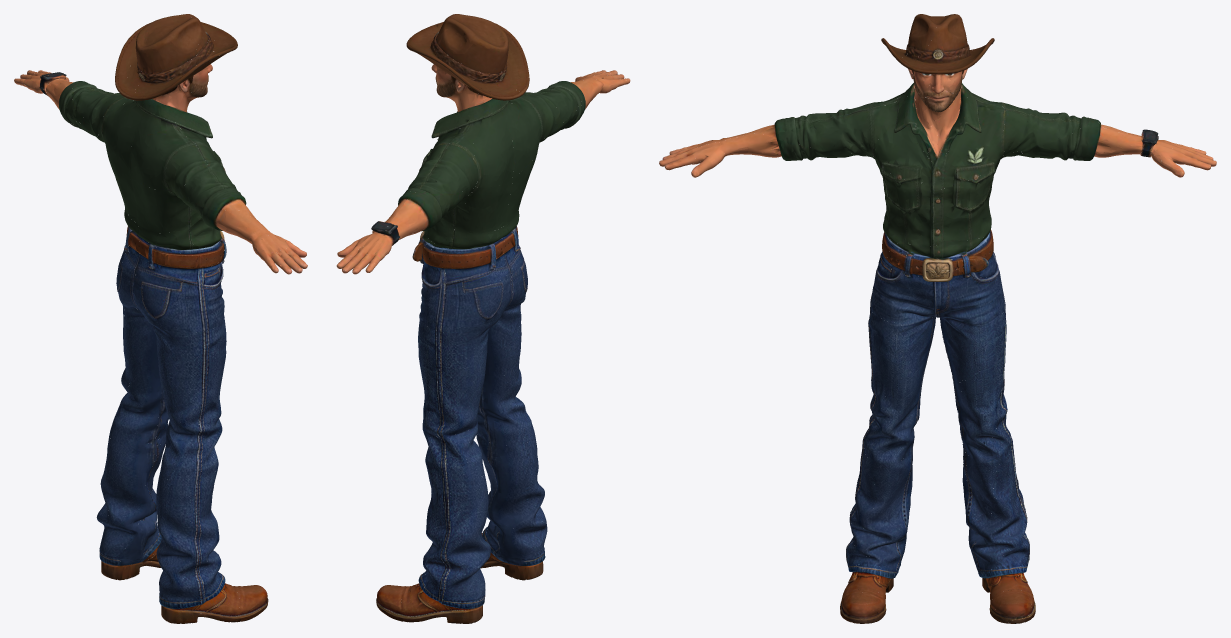
File: personagem_base.glb
The picture shows the model from 3 angles, left to right: view 1: azimuth 30°, elevation 25°; view 2: azimuth 150°, elevation 25°; view 3: azimuth 270°, elevation 25°; orthographic projection. The views are drawn at different scales.
Visible parts, largest first — view 1: tripo_node_dafc2fb5-fb3e-4e99-80f7-f7999c897a85; view 2: tripo_node_dafc2fb5-fb3e-4e99-80f7-f7999c897a85; view 3: tripo_node_dafc2fb5-fb3e-4e99-80f7-f7999c897a85.
Part boxes in pixels (left/top/right/bottom): tripo_node_dafc2fb5-fb3e-4e99-80f7-f7999c897a85: left=14, top=14, right=307, bottom=623; tripo_node_dafc2fb5-fb3e-4e99-80f7-f7999c897a85: left=336, top=14, right=630, bottom=623; tripo_node_dafc2fb5-fb3e-4e99-80f7-f7999c897a85: left=659, top=14, right=1216, bottom=623.
Bounding box in the file's own units: 0.3579 × 1.8 × 1.55.
1 material, 1 textured.
